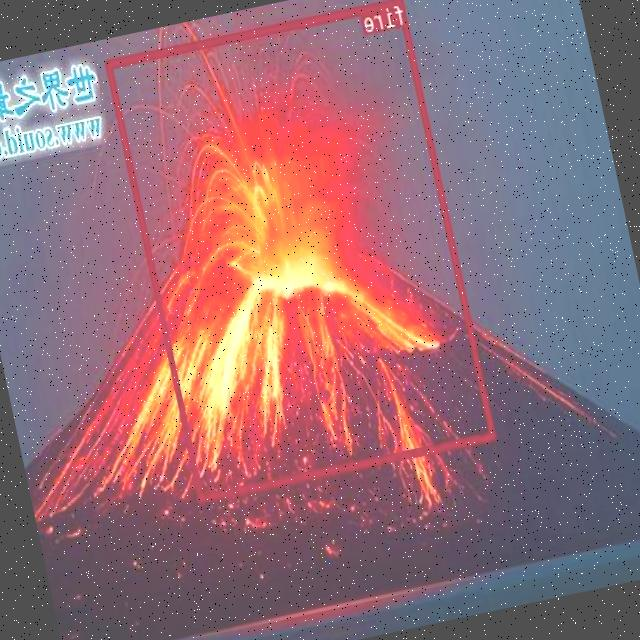fire: (105, 0, 496, 501)
